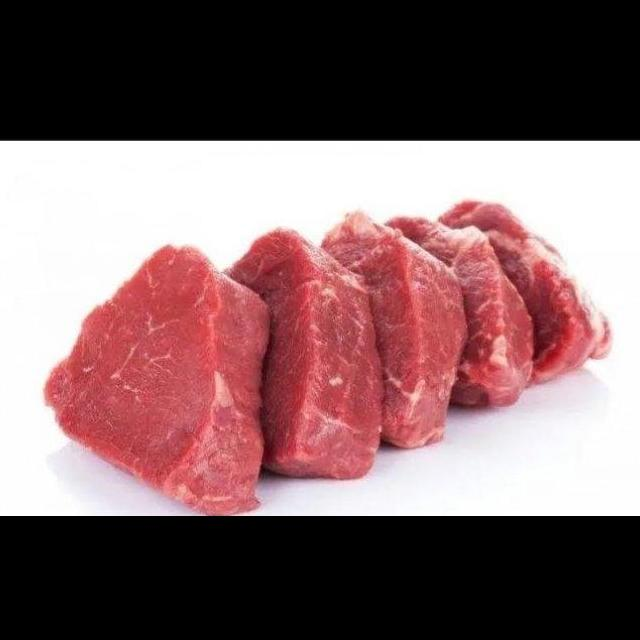beef: (38, 244, 282, 516), (202, 200, 388, 498), (387, 180, 640, 393), (316, 173, 464, 462)
